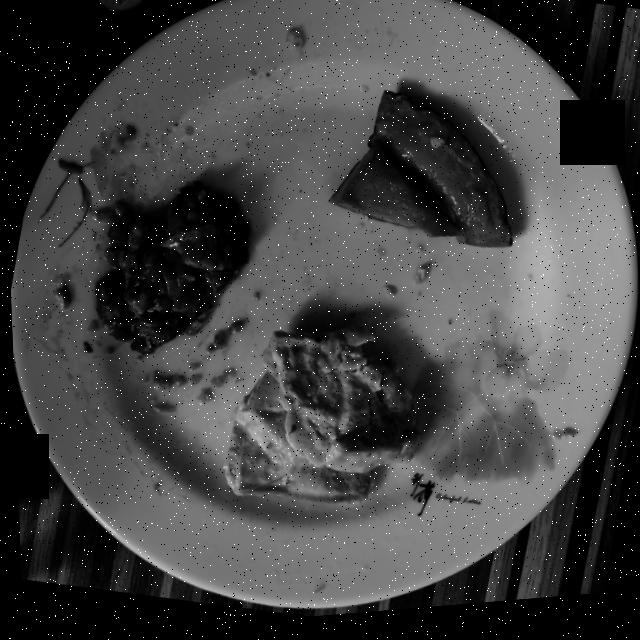Kabayaki sea bream fillet: (90, 184, 248, 357)
coin: (97, 0, 145, 14)
pumpkin: (328, 97, 510, 256)
